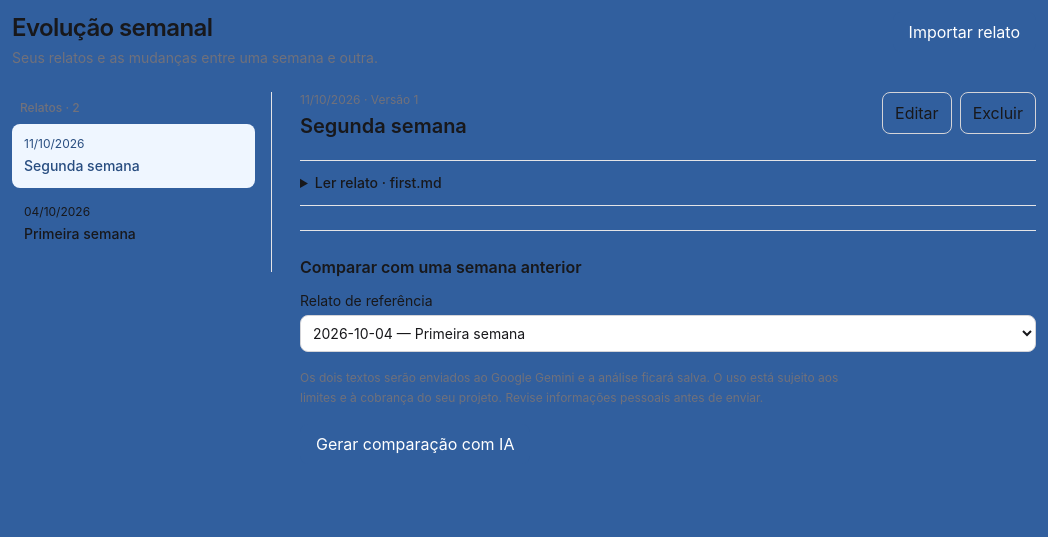
Test: weekly evolution › shows provider failure and lets the user retry
Click the button "Gerar comparação com IA" at (415, 444), box [300,424,530,464]
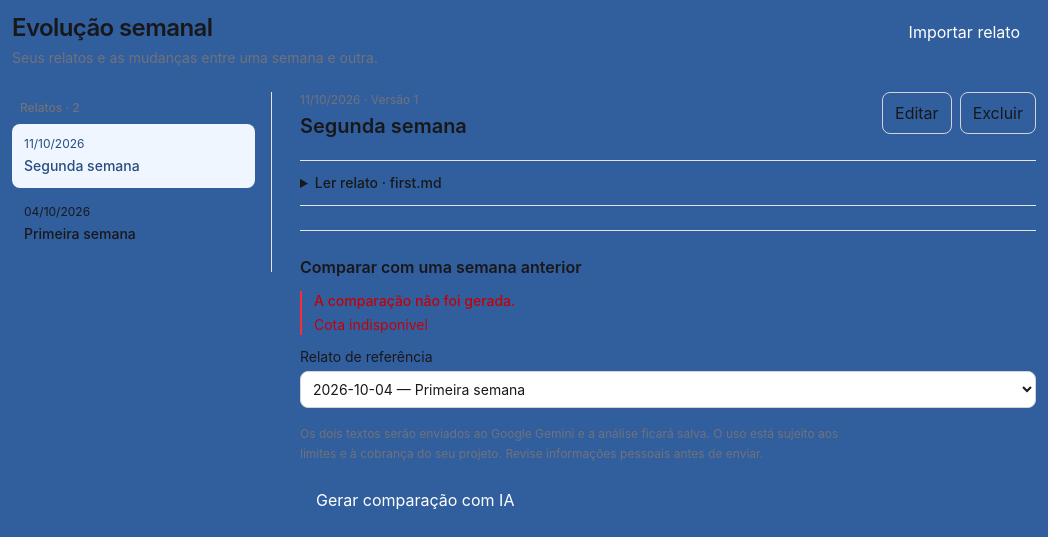
Expected: the button "Gerar comparação com IA" is enabled, [300,480,530,520]
Expected: the message "A comparação não foi gerada. Cota indisponível" is shown, [300,291,1036,335]
